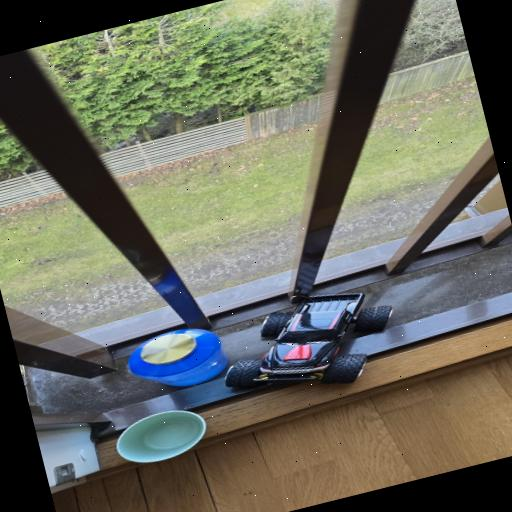bottle: (129, 316, 239, 404)
